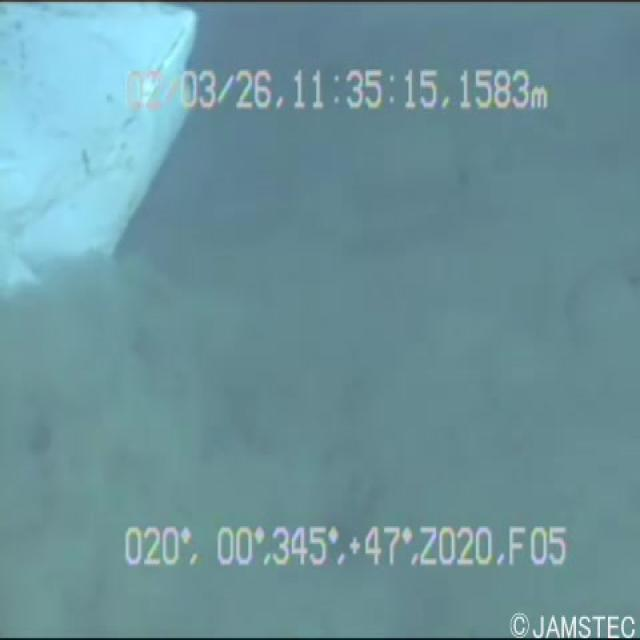plastic: (0, 0, 198, 277)
